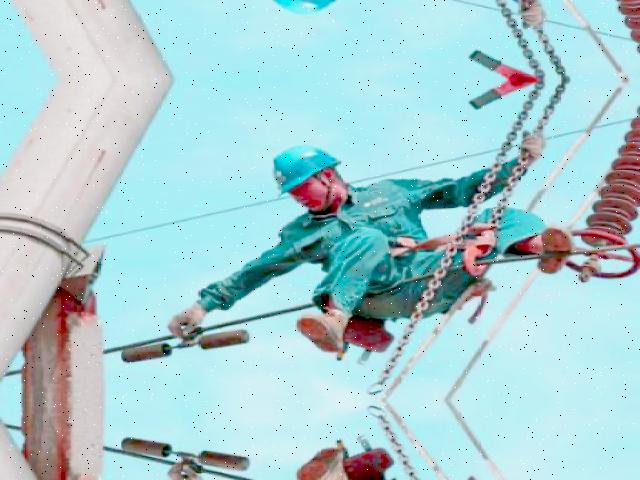Helmet: (264, 140, 344, 200)
